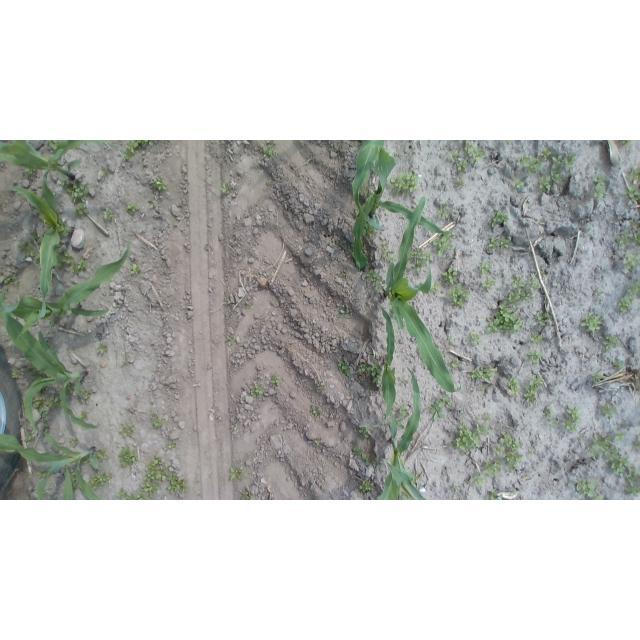Maize: (378, 191, 455, 394), (1, 299, 107, 435), (6, 237, 131, 340), (4, 175, 68, 310), (0, 428, 104, 500), (379, 368, 427, 501), (1, 141, 119, 182)
Weeds: (591, 429, 629, 478), (453, 413, 492, 451), (540, 146, 578, 184), (139, 454, 169, 497), (485, 304, 526, 335), (504, 274, 541, 303), (615, 218, 640, 249), (428, 393, 454, 422), (493, 431, 522, 457), (18, 231, 42, 261), (60, 177, 90, 201), (390, 172, 418, 197), (576, 476, 604, 500), (125, 141, 160, 160), (450, 149, 467, 188), (619, 281, 640, 311), (524, 374, 544, 405), (446, 283, 470, 307), (464, 141, 485, 167), (470, 365, 498, 384), (409, 248, 432, 271), (624, 468, 640, 501), (358, 362, 382, 384), (54, 246, 75, 271), (562, 405, 581, 432), (117, 447, 139, 470), (581, 312, 604, 334), (89, 470, 113, 491), (434, 232, 453, 258), (33, 394, 49, 423), (168, 471, 189, 493), (590, 174, 607, 200), (516, 155, 540, 173), (366, 269, 384, 292), (624, 250, 640, 273), (115, 489, 147, 500), (506, 451, 522, 473), (491, 210, 509, 229), (534, 309, 553, 327), (506, 375, 523, 395), (351, 445, 371, 462), (151, 176, 170, 193), (525, 349, 545, 365), (624, 184, 640, 204), (442, 266, 459, 284), (437, 202, 454, 220), (481, 460, 501, 475), (149, 413, 167, 429), (337, 359, 352, 378), (262, 142, 278, 159), (360, 478, 377, 494), (626, 166, 640, 185), (480, 276, 496, 292), (74, 203, 90, 219), (72, 259, 89, 274), (249, 383, 267, 397), (600, 404, 616, 419), (603, 335, 619, 350), (484, 488, 504, 500), (120, 423, 137, 437), (478, 261, 492, 278), (99, 165, 117, 178), (230, 466, 245, 481), (528, 330, 544, 344), (537, 176, 551, 192), (470, 471, 486, 485), (381, 247, 395, 262), (357, 425, 372, 439), (47, 395, 61, 410), (338, 305, 354, 318), (488, 236, 501, 251), (1, 274, 17, 286), (469, 332, 482, 346), (364, 226, 377, 240), (36, 467, 50, 480), (511, 178, 526, 190), (103, 208, 115, 222), (96, 449, 108, 463), (449, 356, 461, 370), (591, 371, 605, 383), (612, 358, 625, 370), (126, 203, 139, 215), (44, 140, 60, 149), (446, 334, 458, 346), (398, 404, 410, 416), (220, 182, 232, 194), (80, 388, 92, 400), (593, 287, 606, 298), (502, 235, 512, 249), (69, 470, 77, 487), (78, 411, 90, 422), (66, 383, 77, 395), (130, 263, 140, 276), (545, 405, 555, 418), (431, 280, 441, 293), (399, 490, 413, 499), (271, 374, 281, 386), (10, 369, 22, 379), (24, 167, 37, 176), (309, 406, 319, 417), (96, 344, 106, 355), (449, 483, 460, 493), (315, 382, 327, 391), (225, 336, 235, 346), (23, 433, 33, 443), (241, 489, 251, 499), (204, 245, 215, 254), (410, 474, 421, 483), (397, 418, 404, 431), (620, 141, 633, 148), (69, 437, 78, 447), (167, 442, 177, 451), (232, 422, 241, 432), (549, 417, 559, 426), (509, 488, 519, 497), (339, 271, 348, 280), (635, 439, 640, 454), (373, 457, 379, 469), (314, 438, 322, 446), (478, 385, 486, 391), (504, 141, 513, 146), (228, 301, 235, 307)
